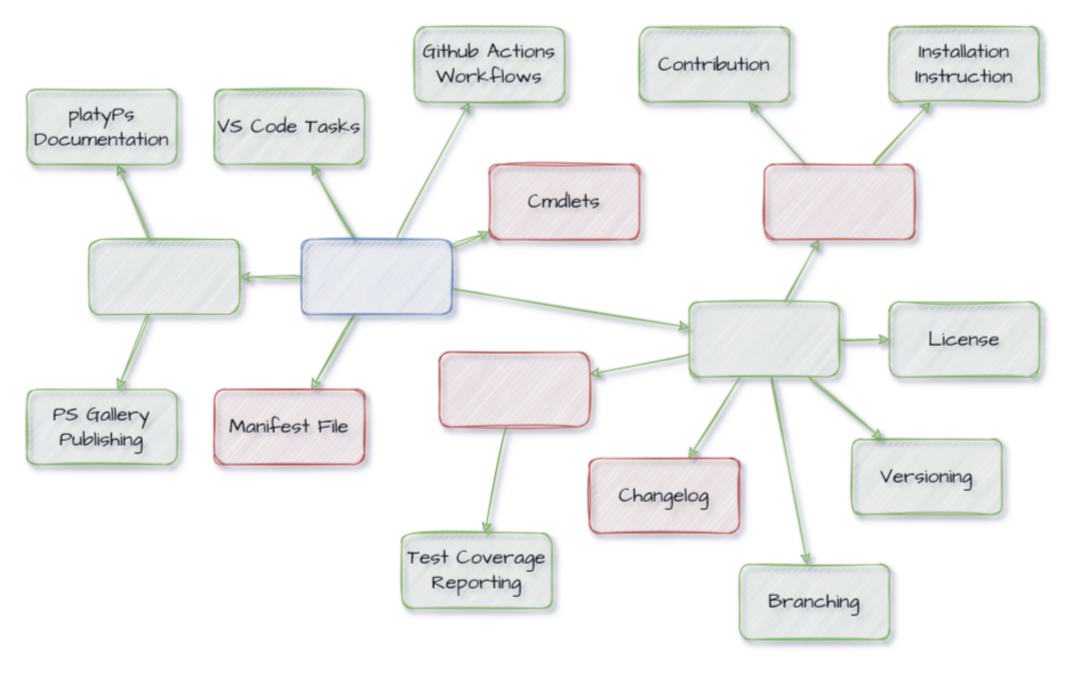
The diagram is 1076 pixels wide and 678 high, and some of its shapes have lost their labels. The centre of each missing label's shape, as x and y in pixels:
"InvokeBuild Tasks" belongs at [165,278].
"Pester Tests" belongs at [515,391].
"PowerShell Module" belongs at [377,278].
"Project Structure" belongs at [765,341].
"Readme" belongs at [840,203].
